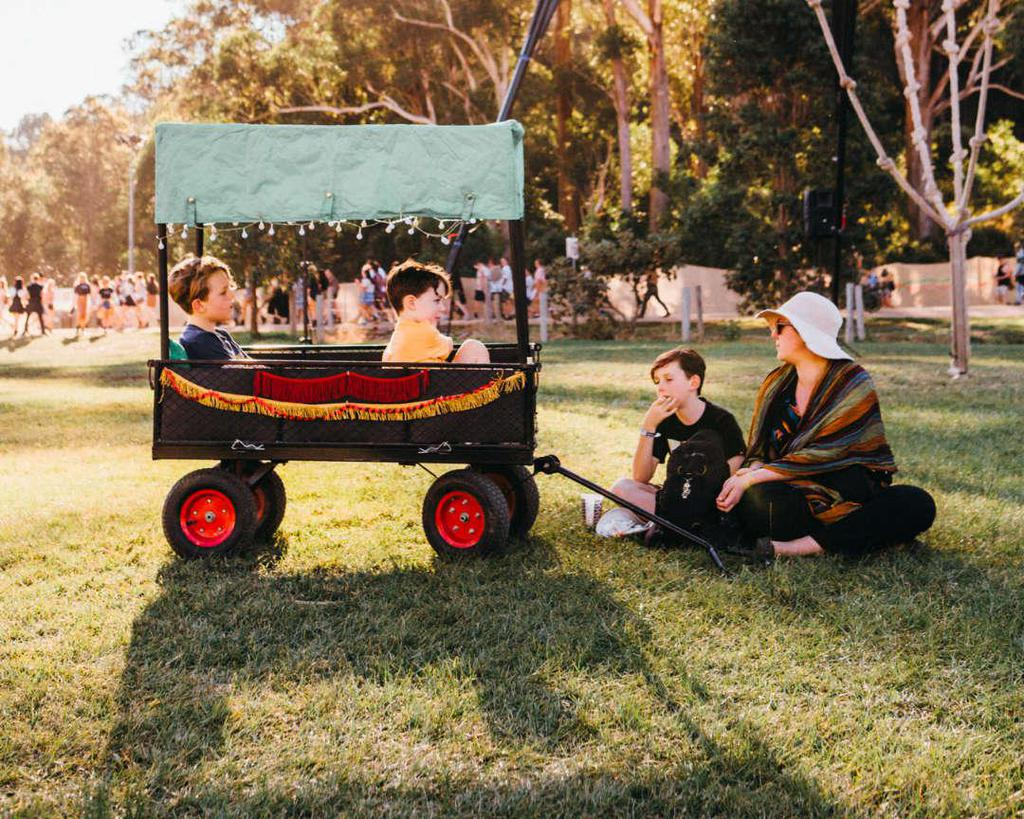child: (376, 260, 510, 380), (163, 254, 255, 365)
